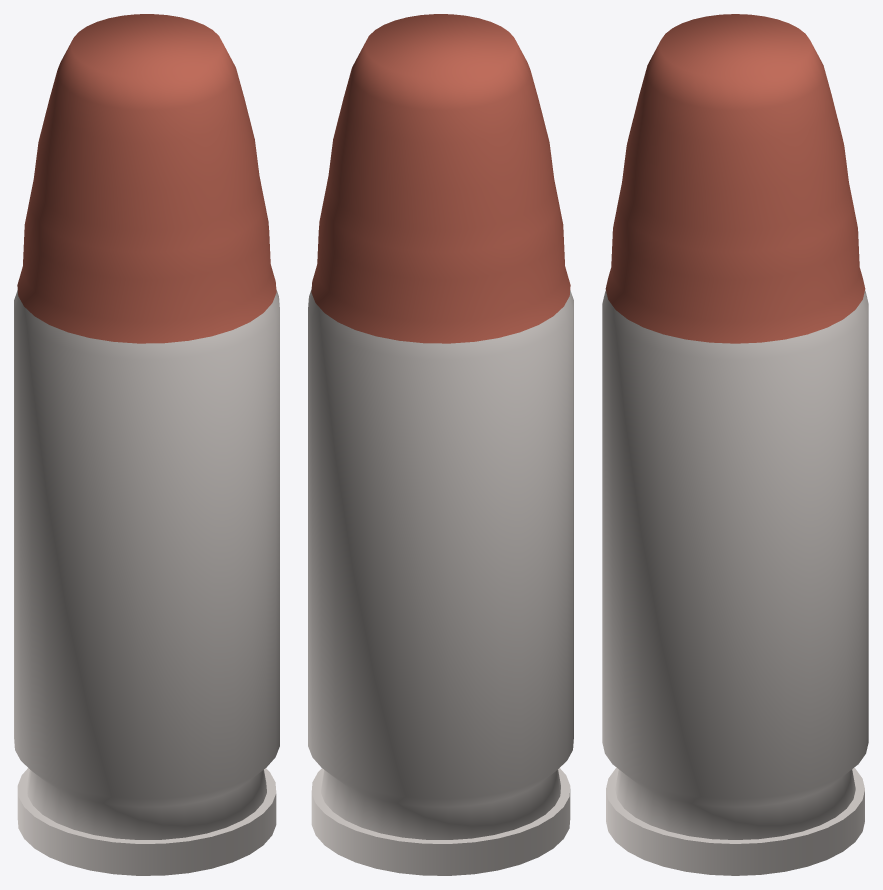
The model's file is bullet.glb.
The picture shows the model from 3 angles, left to right: view 1: azimuth 30°, elevation 25°; view 2: azimuth 150°, elevation 25°; view 3: azimuth 270°, elevation 25°; orthographic projection.
Parts seen in each view (by area): view 1: Circle; view 2: Circle; view 3: Circle.
Part boxes in pixels (x1,y1,x2,y2): Circle: (14, 14, 279, 875); Circle: (308, 14, 573, 875); Circle: (602, 14, 868, 875).
Bounding box in the file's own units: 0.3244 × 1.04 × 0.3244.
